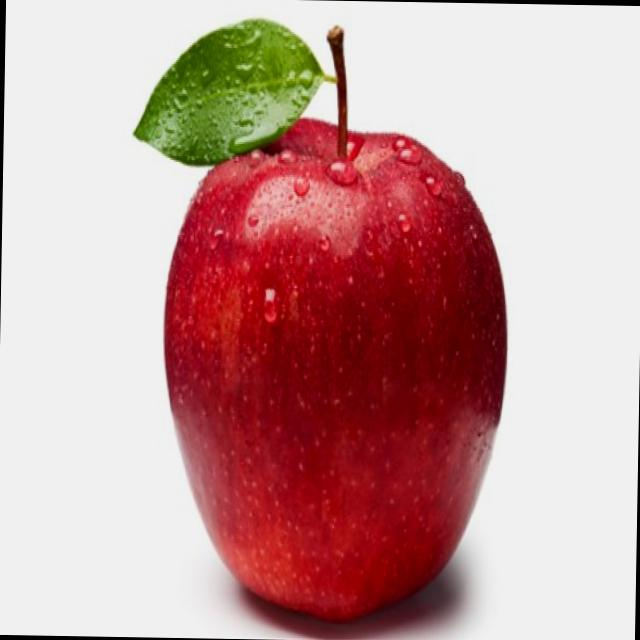apple: (158, 112, 518, 616)
